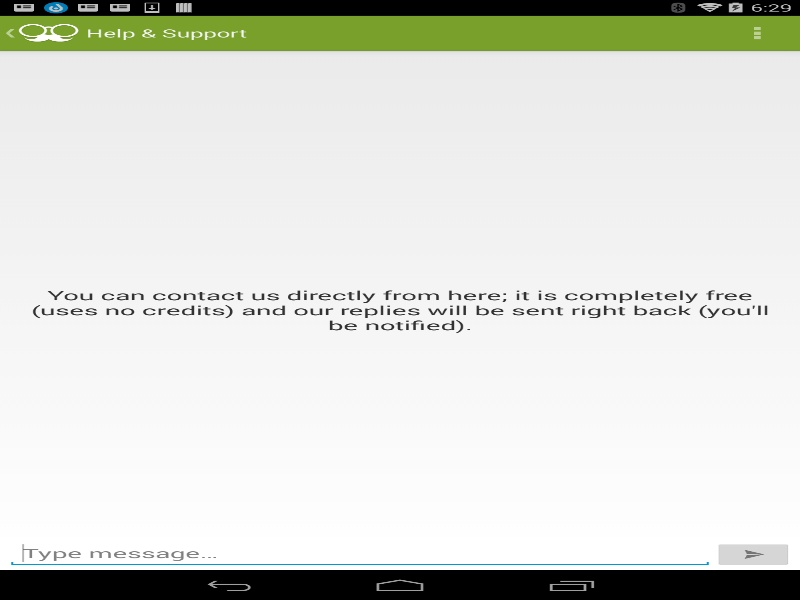Button: (714, 15, 800, 50), (713, 541, 793, 566)
Input: (6, 540, 713, 566)
